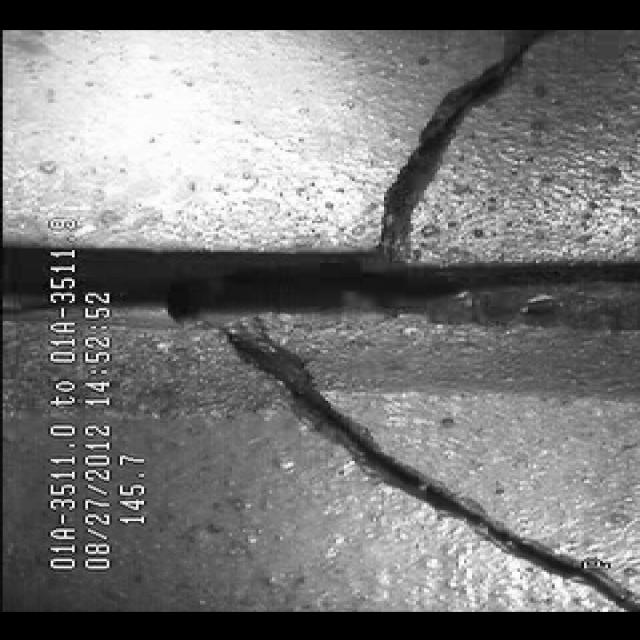Crack: (210, 336, 568, 552), (324, 48, 562, 254)
